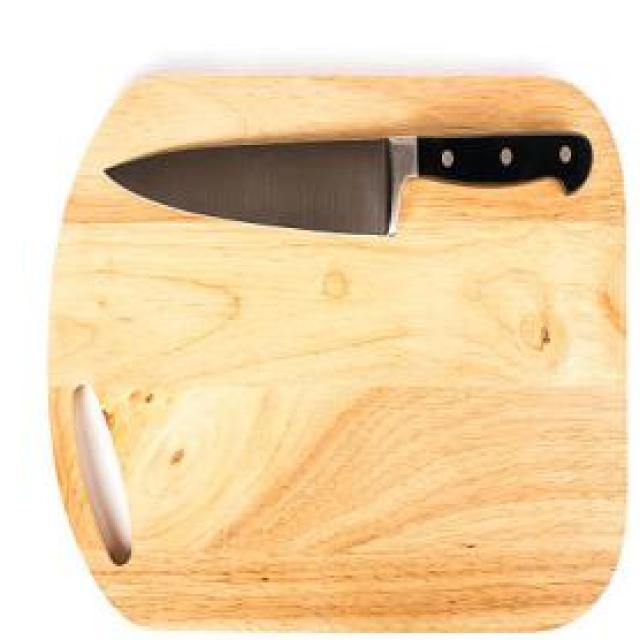knife: (103, 129, 598, 239)
